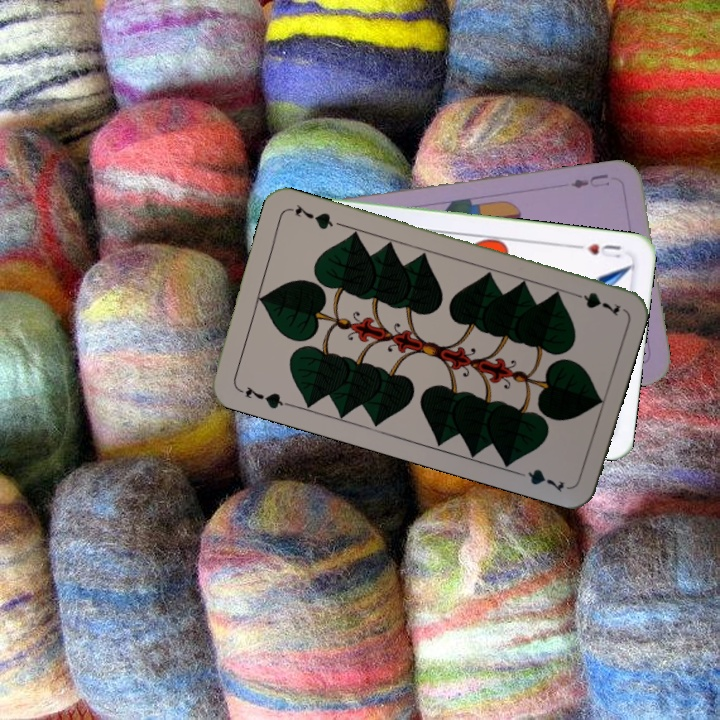EU: (567, 170, 613, 191)
G7: (565, 288, 624, 319), (234, 382, 292, 412)
HU: (571, 240, 625, 261)
